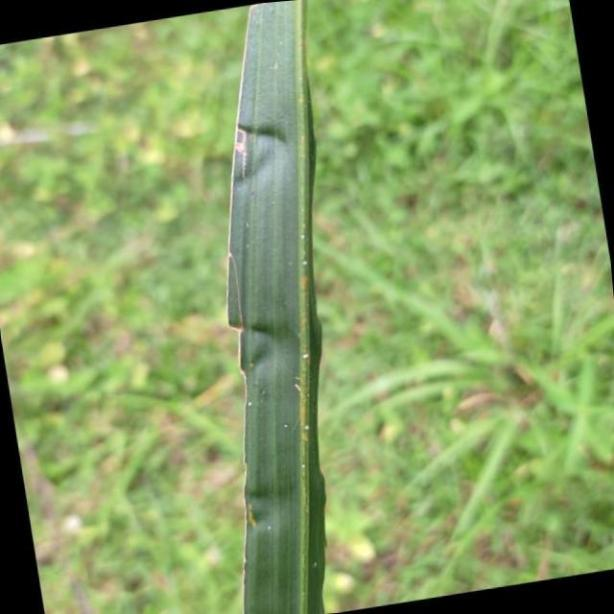Boron: (224, 0, 329, 614)
